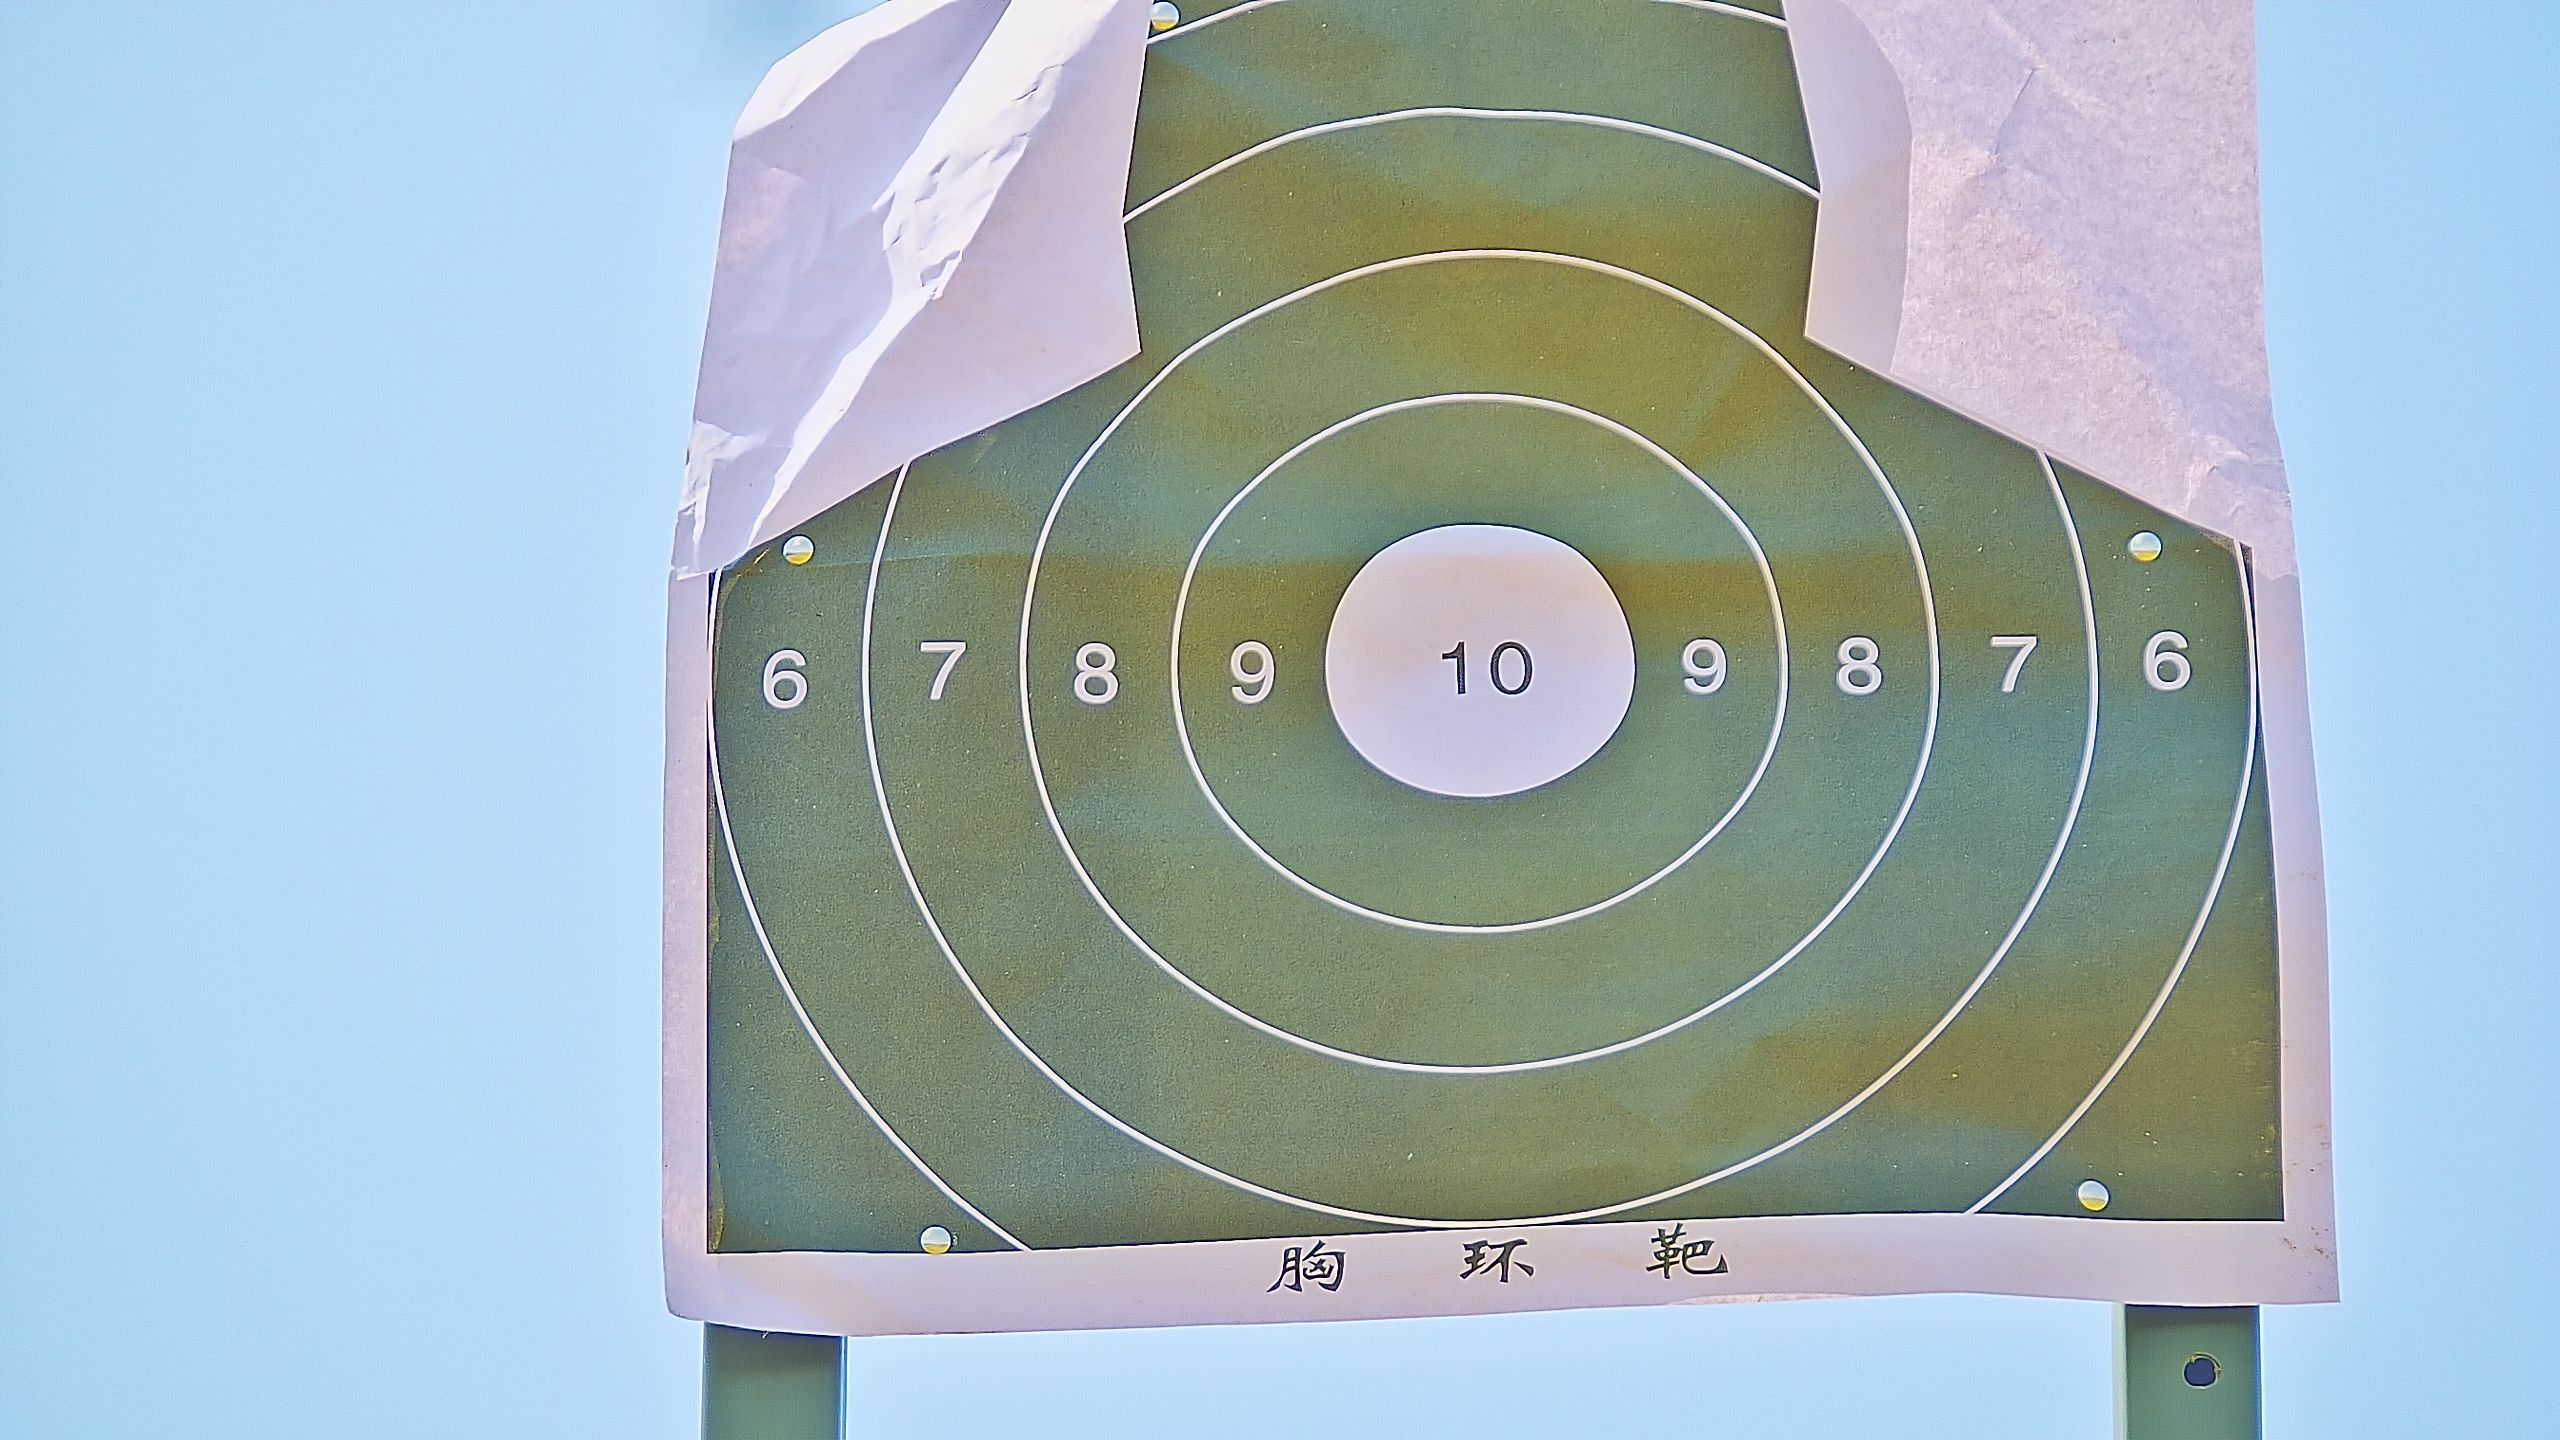target: (710, 12, 2282, 1266)
ten: (1320, 519, 1642, 800)
